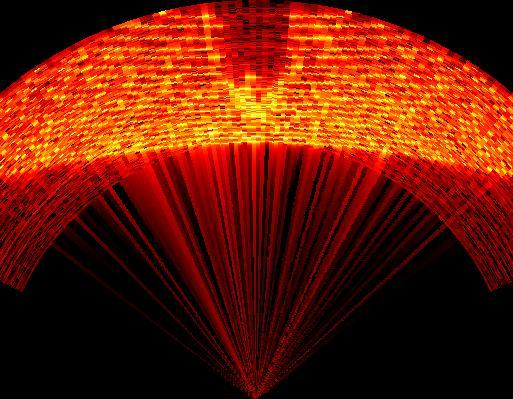box_crate: (209, 2, 292, 100)
